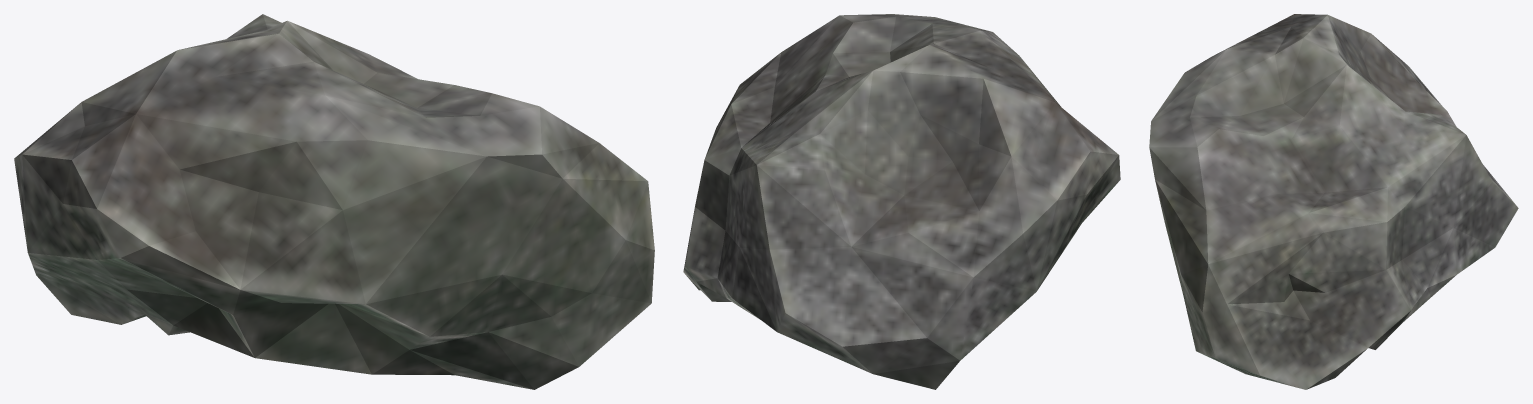
The model's file is rock_06.obj.
3 renders of one model, left to right at view 1: azimuth 30°, elevation 25°; view 2: azimuth 150°, elevation 25°; view 3: azimuth 270°, elevation 25°, orthographic. The views are drawn at different scales.
Size of the model in its own units: 0.1421 by 0.0961 by 0.1234.
Materials: 1 (1 with a texture image).
